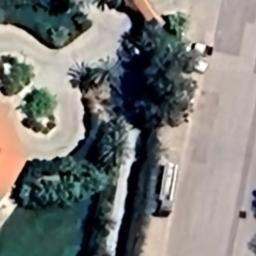pickup: (182, 37, 216, 58)
truck: (154, 160, 181, 217)
